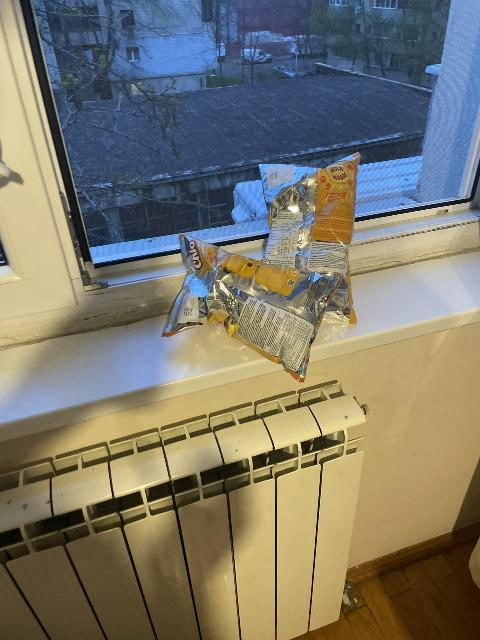Chio Cascaval 125g: (159, 235, 344, 385)
Chio Hula Hoops Cheese 70g: (256, 153, 359, 324)
